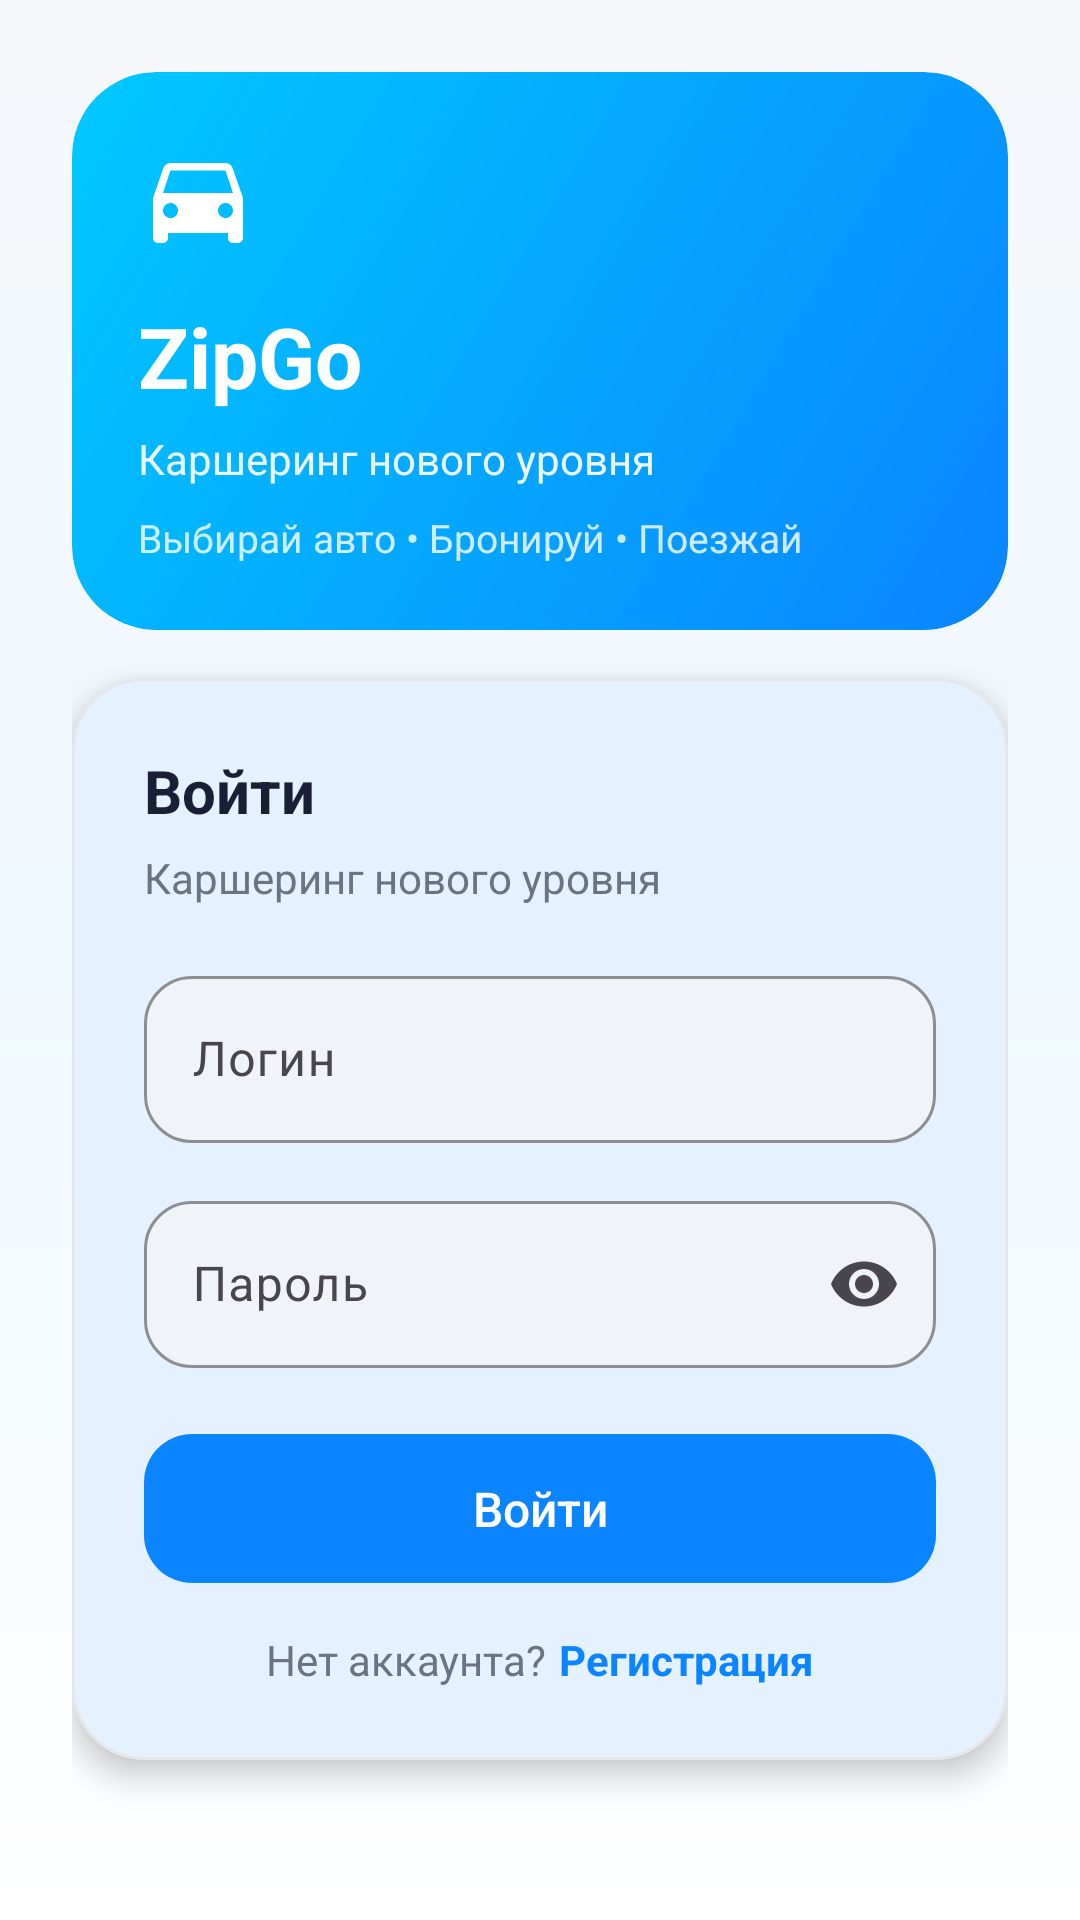

Named icons in this screenshot (1080w x 1920h) and their bounding boxes, (x1, y1, x2, y2):
car: (153, 163, 243, 243)
